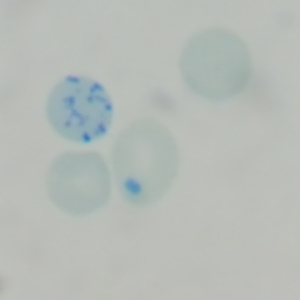aggregate reticulocyte: (45, 74, 113, 144)
erythrocyte: (112, 116, 180, 207), (177, 27, 253, 101), (43, 149, 113, 217)
